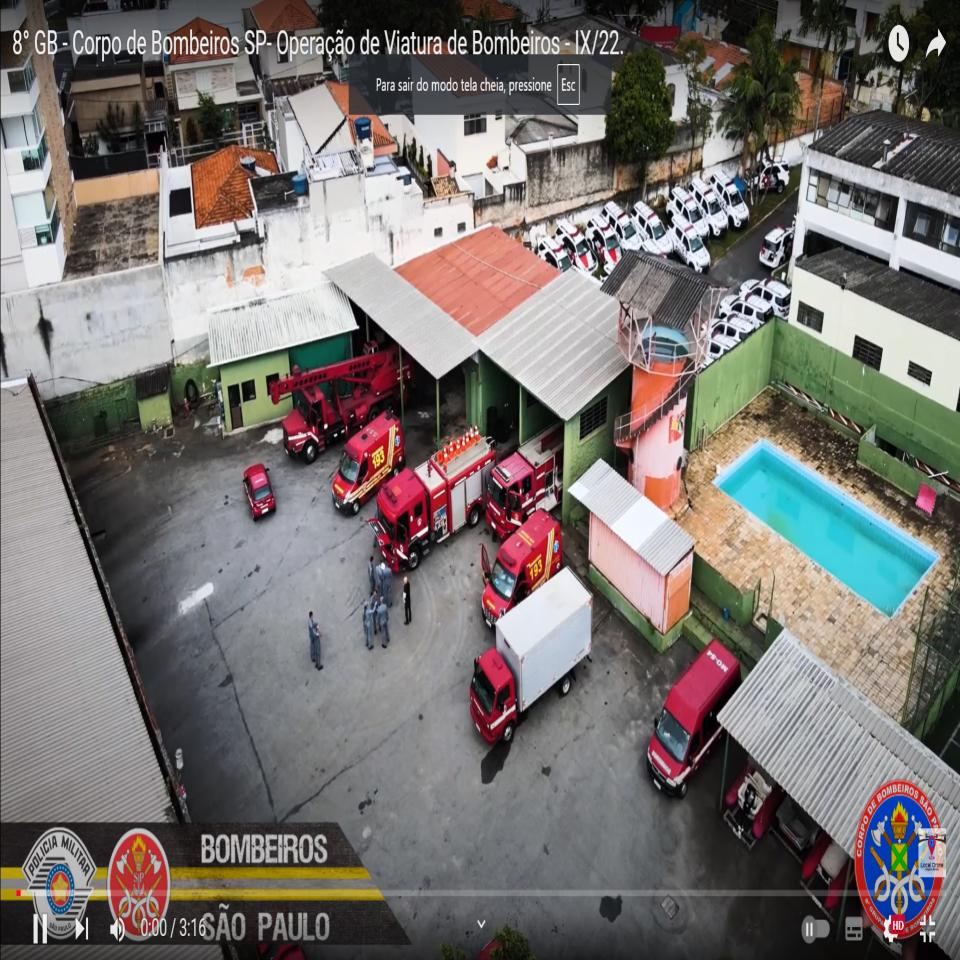viatura: (366, 424, 495, 568), (269, 340, 412, 465)
